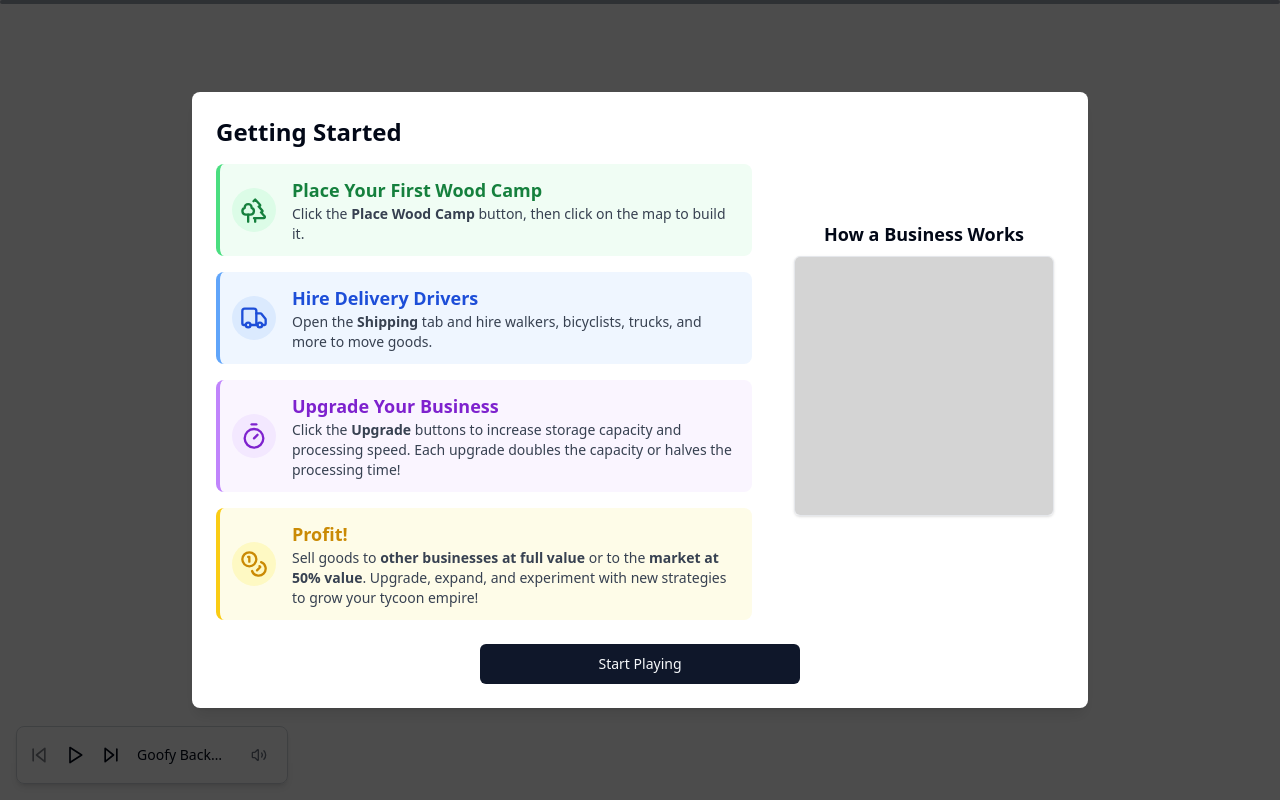
Test: TycoonGame › closes tutorial overlay when start button is clicked
Click the button "Start Playing" at coordinates (640, 664), box [480,644,800,684]
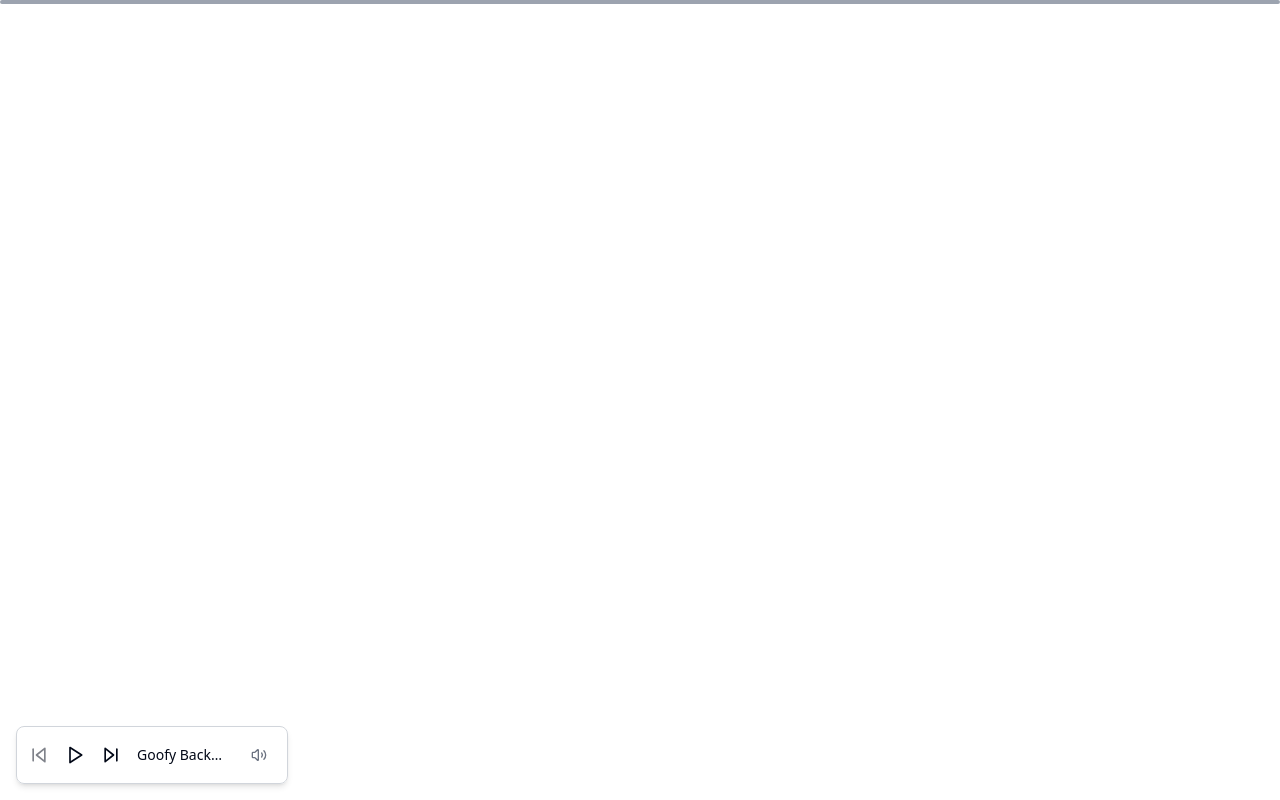
expect the heading "Getting Started" is gone: met
